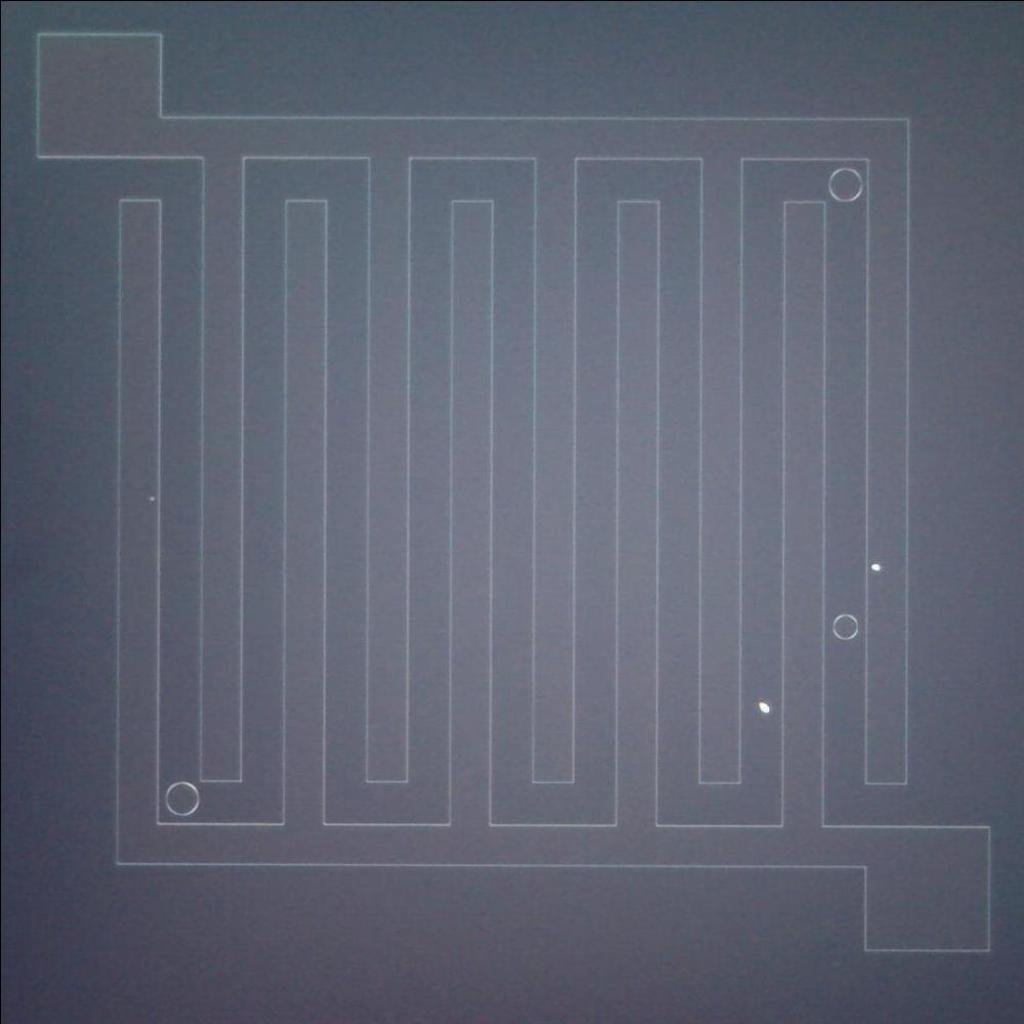circle: (155, 772, 204, 820), (820, 164, 866, 204), (824, 606, 862, 642)
spot: (863, 557, 886, 580), (752, 695, 773, 718)
